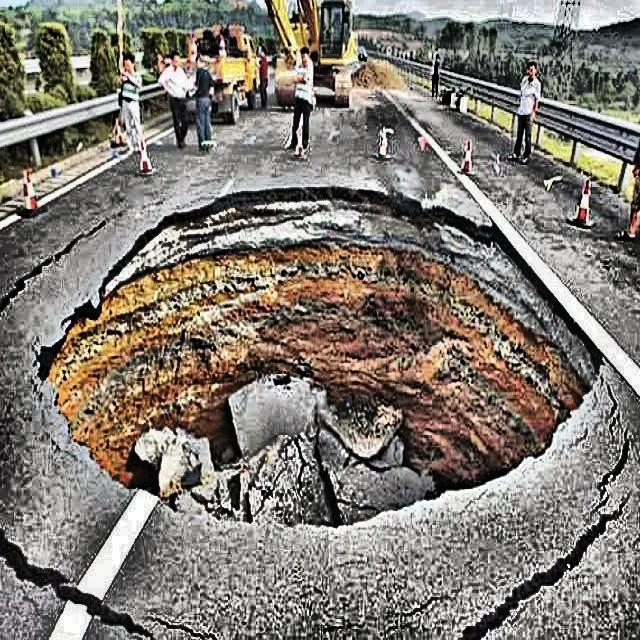buraco: (34, 184, 607, 531)
